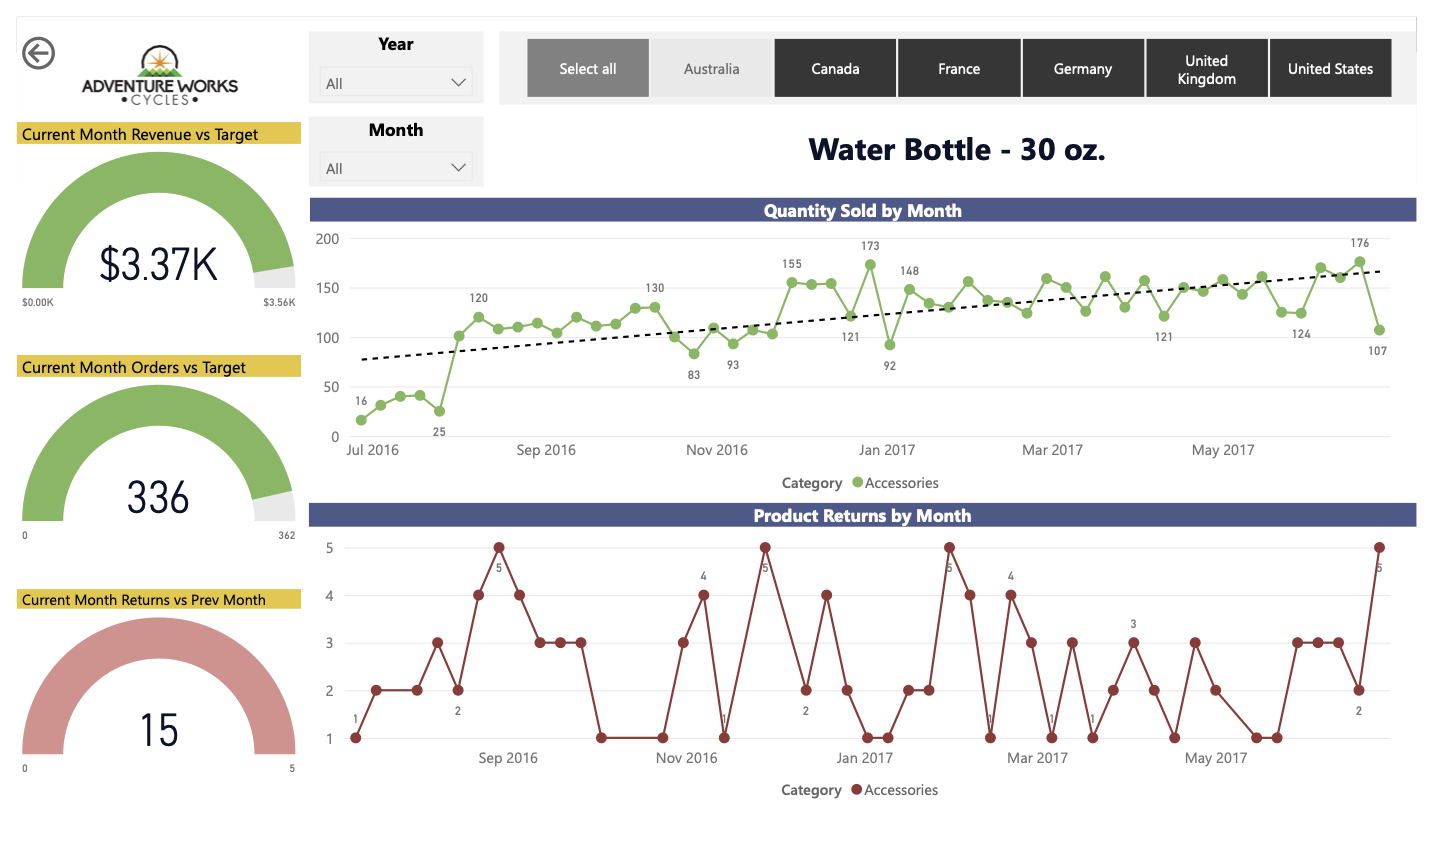

This screenshot's page, from the dashboard's own definition file:
{"tool":"powerbi","page":{"name":"Product Details","canvas":[1280,720],"ordinal":1},"visuals":[{"type":"image","box":[0,2.9,261.8,74.2],"z":0},{"type":"actionButton","box":[0,0,100,40],"z":1000},{"type":"slicer","title":"Country","fields":{"Values":["AW_Territories_Lookup.Country"]},"box":[440.8,0,839.8,66.7],"z":2000},{"type":"lineChart","title":"Quantity Sold by Month","fields":{"Category":["AW_Calendar_Lookup.Start of Week"],"Series":["AW_Product_Category_Lookup.CategoryName"],"Y":["AW_Sales.Quantity Sold"]},"box":[267.9,151.7,1012.1,279.7],"z":3000},{"type":"lineChart","title":"Product Returns by Month","fields":{"Category":["AW_Calendar_Lookup.Start of Week"],"Series":["AW_Product_Category_Lookup.CategoryName"],"Y":["AW_Returns.Total Returns"]},"box":[266.7,431.4,1013.3,280.9],"z":4000},{"type":"gauge","title":"Current Month Revenue vs Target","fields":{"Y":["AW_Sales.Total Revenue"],"MaxValue":["AW_Sales.Revenue Target"]},"box":[0,82.9,260,180],"z":6000},{"type":"gauge","title":"Current Month Orders vs Target","fields":{"MaxValue":["AW_Sales.Order Target"],"Y":["AW_Sales.Total Orders"]},"box":[0,296.4,260,180],"z":7000},{"type":"gauge","title":"Current Month Returns vs Prev Month","fields":{"MaxValue":["AW_Returns.Prev Month Returns"],"Y":["AW_Returns.Total Returns"]},"box":[0,510,260,180],"z":8000},{"type":"slicer","title":"Year","fields":{"Values":["AW_Calendar_Lookup.Year"]},"box":[266.7,0,160,66.4],"z":9000},{"type":"slicer","title":"Month","fields":{"Values":["AW_Calendar_Lookup.Month Name"]},"box":[266.8,78,160.5,64.4],"z":10000},{"type":"card","title":"Top Product","fields":{"Values":["Min(AW_Product_Lookup.ProductName)"]},"box":[440.8,76.9,838.7,61],"z":11000}]}

Visuals, with their boxes on the page's 1280x720 design canvas (x1, y1, x2, y2). These are canvas units, not pixel positions in the 1433x850 screenshot, which may show the page scaled, cropped or inside an application window:
image: 0, 3, 262, 77
actionButton: 0, 0, 100, 40
"Country" slicer: 441, 0, 1281, 67
"Quantity Sold by Month" lineChart: 268, 152, 1280, 431
"Product Returns by Month" lineChart: 267, 431, 1280, 712
"Current Month Revenue vs Target" gauge: 0, 83, 260, 263
"Current Month Orders vs Target" gauge: 0, 296, 260, 476
"Current Month Returns vs Prev Month" gauge: 0, 510, 260, 690
"Year" slicer: 267, 0, 427, 66
"Month" slicer: 267, 78, 427, 142
"Top Product" card: 441, 77, 1280, 138
